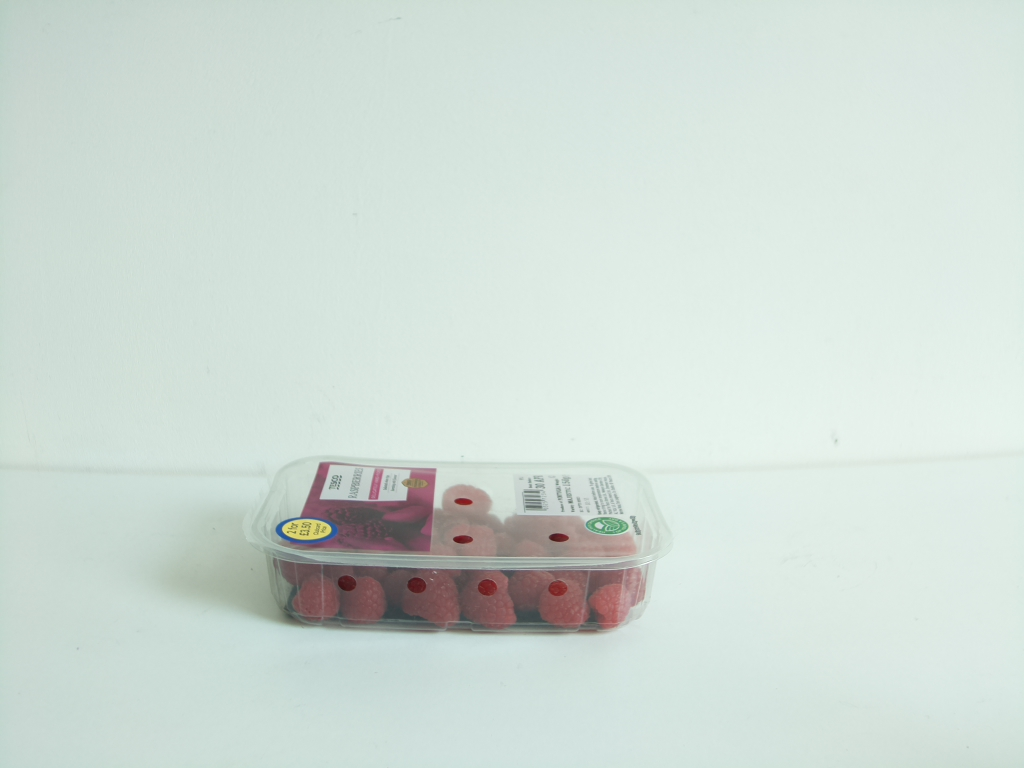soft-fruit: (247, 459, 668, 645)
